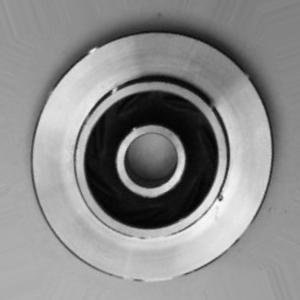defect: (201, 167, 241, 232)
